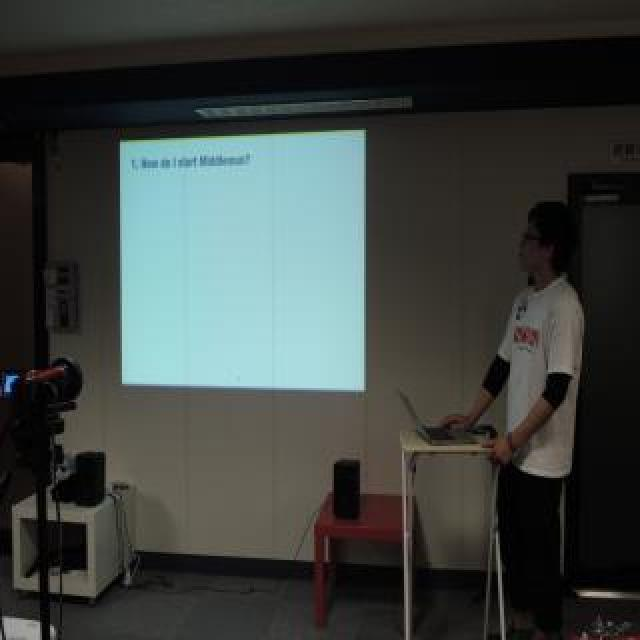laptop_computer: (395, 382, 480, 452)
